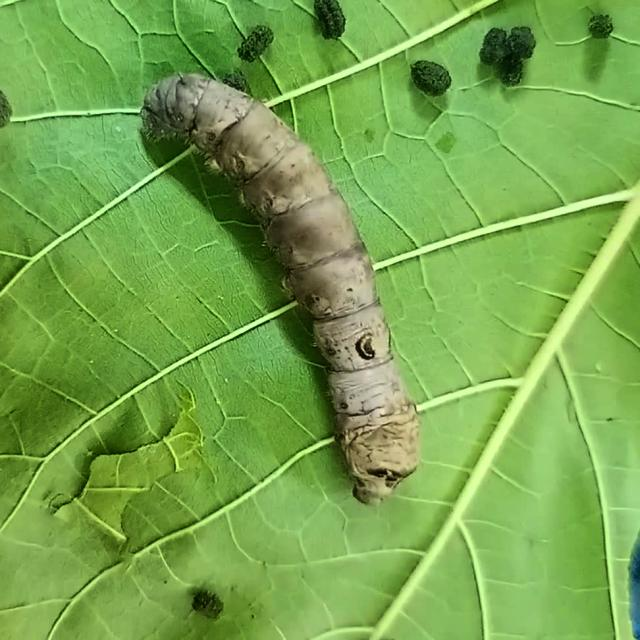Grasserie: (134, 53, 453, 515)
